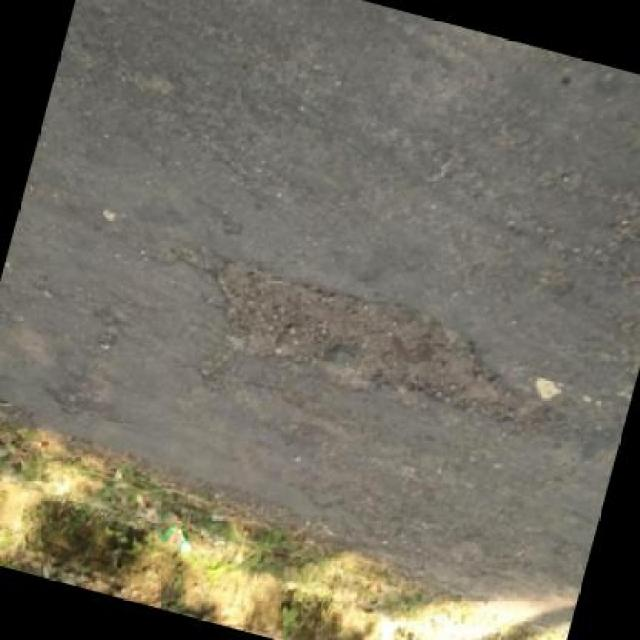pothole1: (186, 245, 569, 444), (40, 385, 129, 429)
